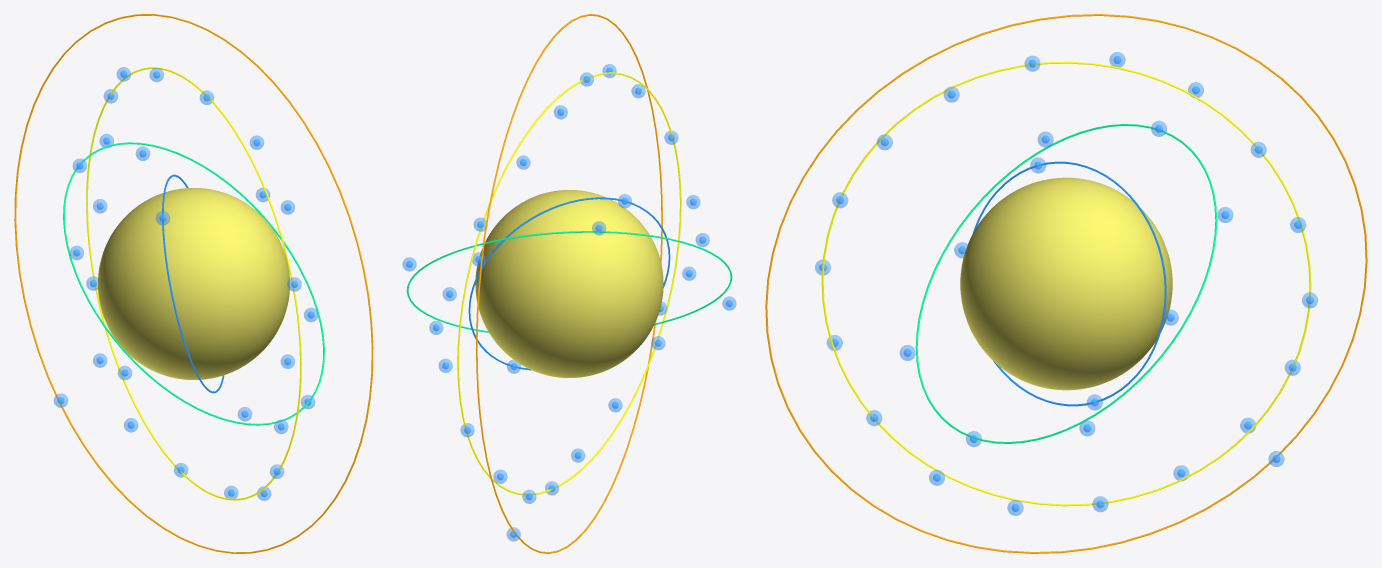
3 views of the same model, side by side, from view 1: azimuth 30°, elevation 25°; view 2: azimuth 150°, elevation 25°; view 3: azimuth 270°, elevation 25° (orthographic). The views are drawn at different scales.
Parts seen in each view (by area): view 1: Cu, object 61, object 24, object 7, object 2; view 2: Cu, object 61, object 24, object 7, object 2; view 3: Cu, object 61, object 24, object 7, object 2.
Part boxes in pixels (x1,y1,x2,y2): Cu: (98,188,289,379); object 61: (14,14,373,553); object 24: (86,67,301,500); object 7: (63,142,324,425); object 2: (162,174,224,393); Cu: (475,190,663,377); object 61: (476,14,662,553); object 24: (457,72,681,495); object 7: (406,231,732,332); object 2: (468,197,670,370); Cu: (960,177,1172,390); object 61: (765,14,1367,553); object 24: (821,61,1311,506); object 7: (915,124,1217,443); object 2: (972,161,1166,406).
Bounding box in the file's own units: 3.35 × 6.01 × 5.92.
